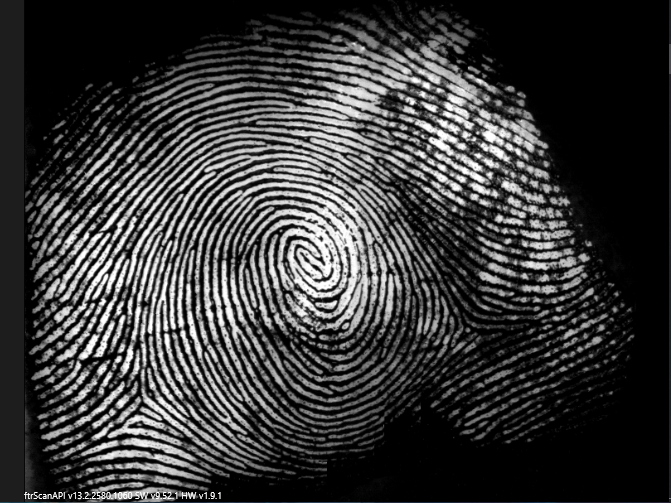deltas: (106, 362, 176, 428), (437, 291, 496, 358)
nucleo: (278, 230, 337, 286)
